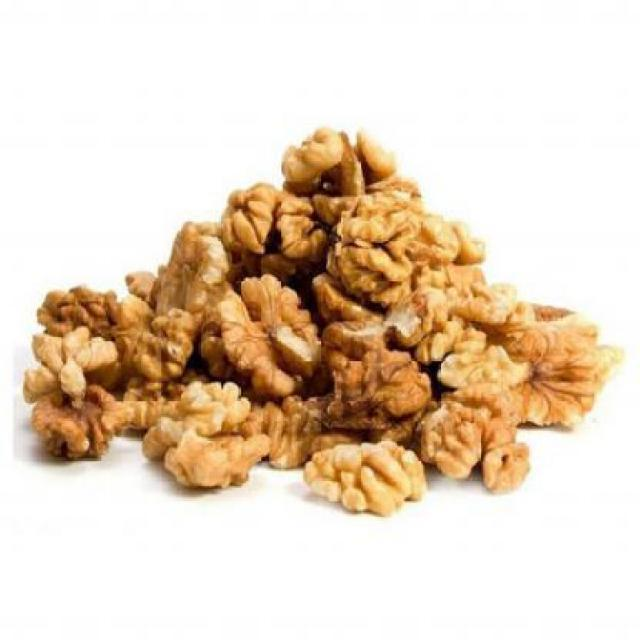Frutta secca: (26, 127, 640, 535)
